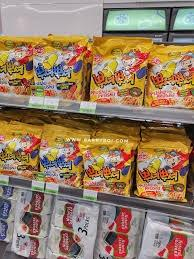snack: (89, 36, 153, 106), (33, 37, 89, 100), (135, 141, 190, 203)
